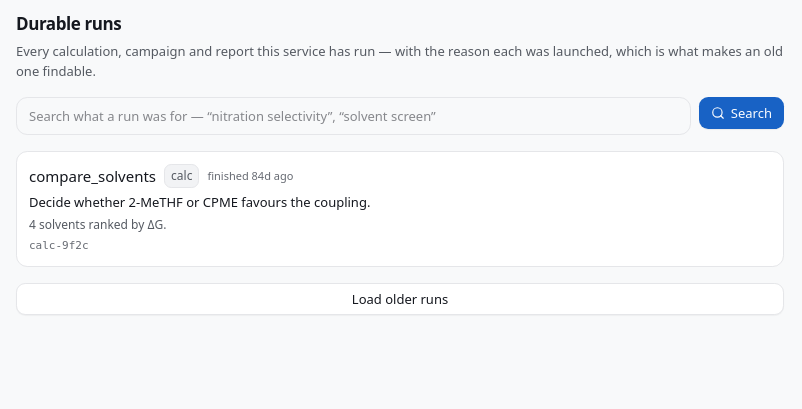
Test case: JobsPanel › offers the older runs the search cap cut off, and follows the cursor
Expected: the text "compare_solvents" is shown, [29,164,156,188]
Expected: the text "search_conformers_older" is not shown
Click the button "Load older runs" at (400, 299), box [16,283,784,315]
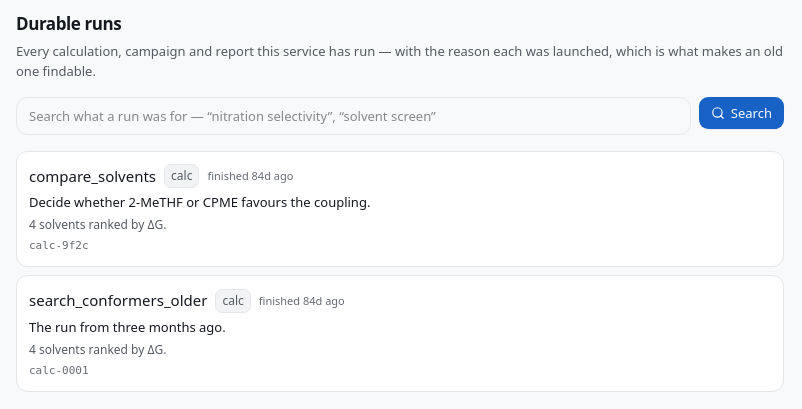
Expected: the text "search_conformers_older" is shown, [29,288,207,313]
